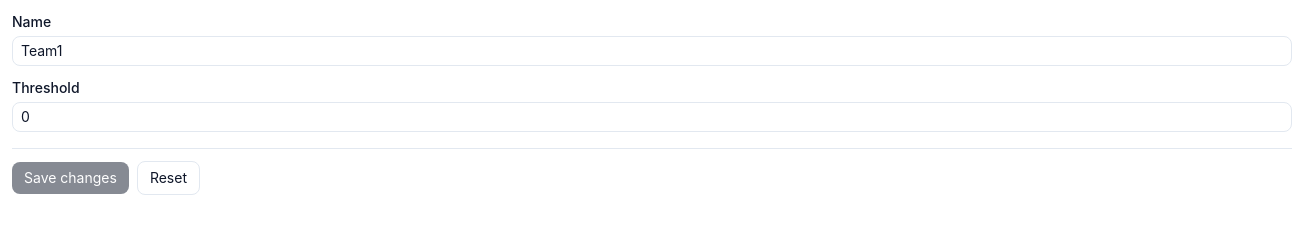
Test: <SettingsForm> › blocks save when a field fails validation
This screenshot has width=1304, height=232.
Replace the text in the number field labelled "Threshold" with "-1" at (652, 117), box [12,102,1292,132]
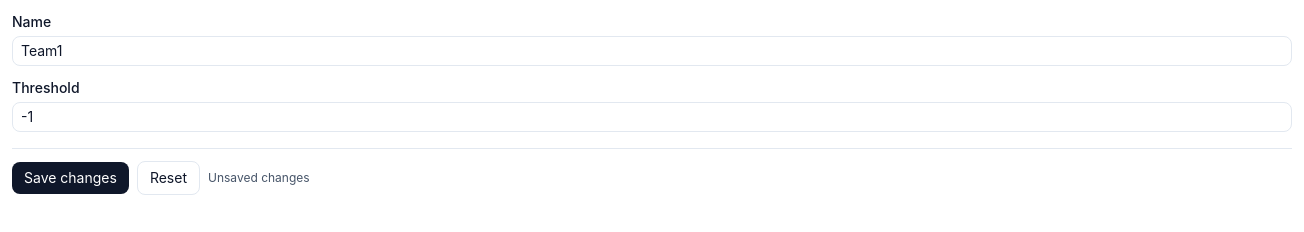
Click the button "Save changes" at (70, 178), box [12,162,129,194]
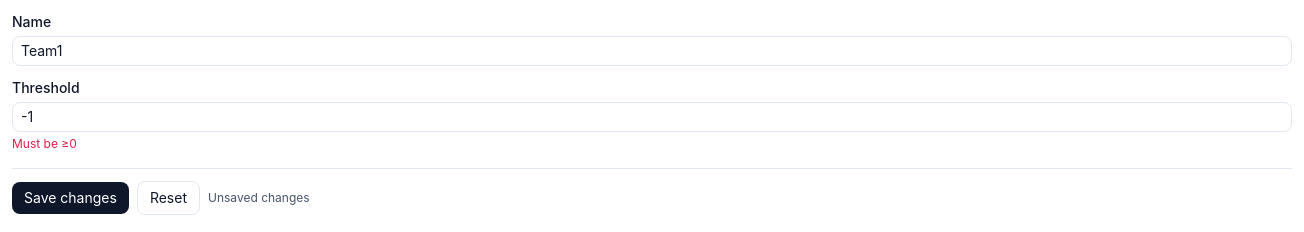
Result: the text "Must be ≥0" is shown at [12,136,77,151]
